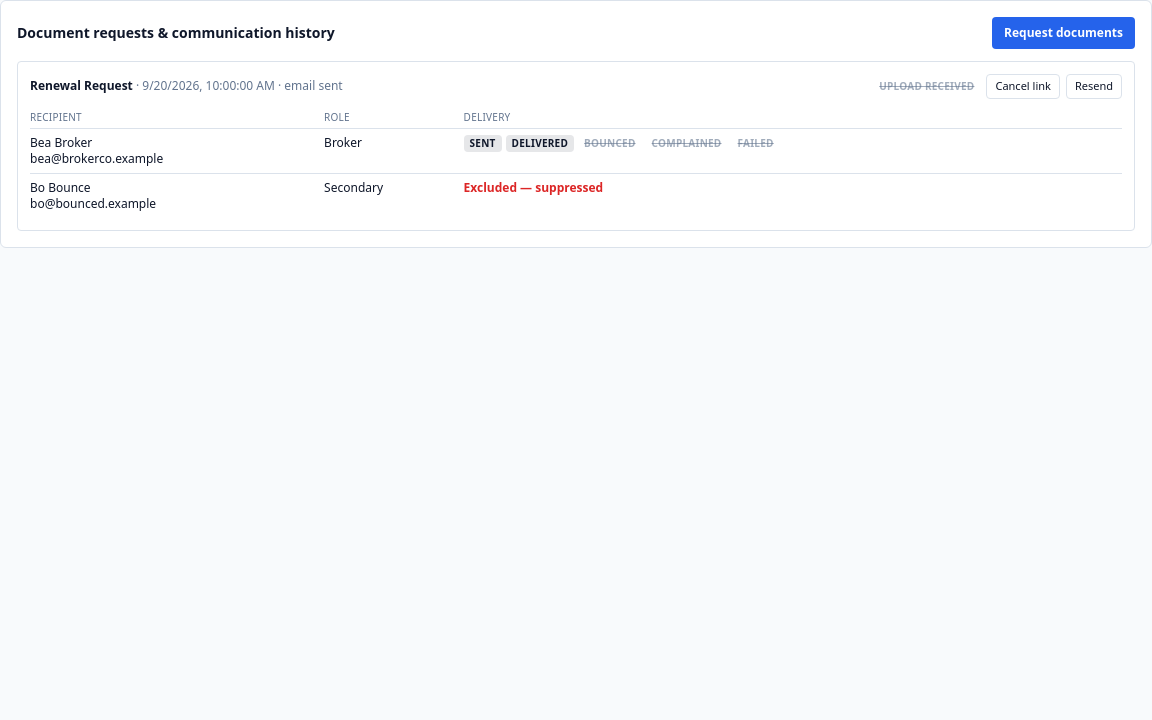
Scenario: Request documents › previews exactly who will receive it, excludes the suppressed contact, and sends only the chosen ids
Click the button "Request documents" at [1064, 33], box [992, 17, 1135, 49]
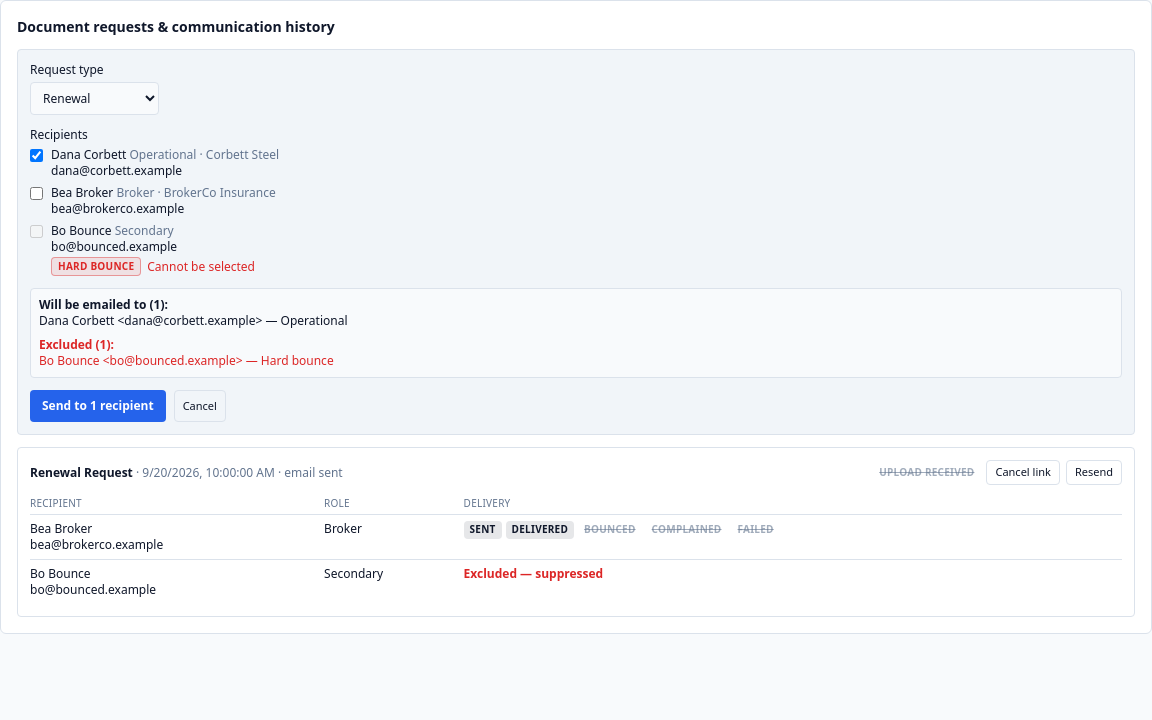
Check: the checkbox labelled "Bo Bounce" is disabled, box [30, 225, 43, 238]
Check: the list with test id "request-excluded-preview" reads "Bo Bounce <bo@bounced.example> — Hard bounce", box [39, 352, 334, 369]
Click the checkbox labelled "Bea Broker Broker · BrokerCo Insurance bea@brokerco.example" at [36, 194], box [30, 187, 43, 200]
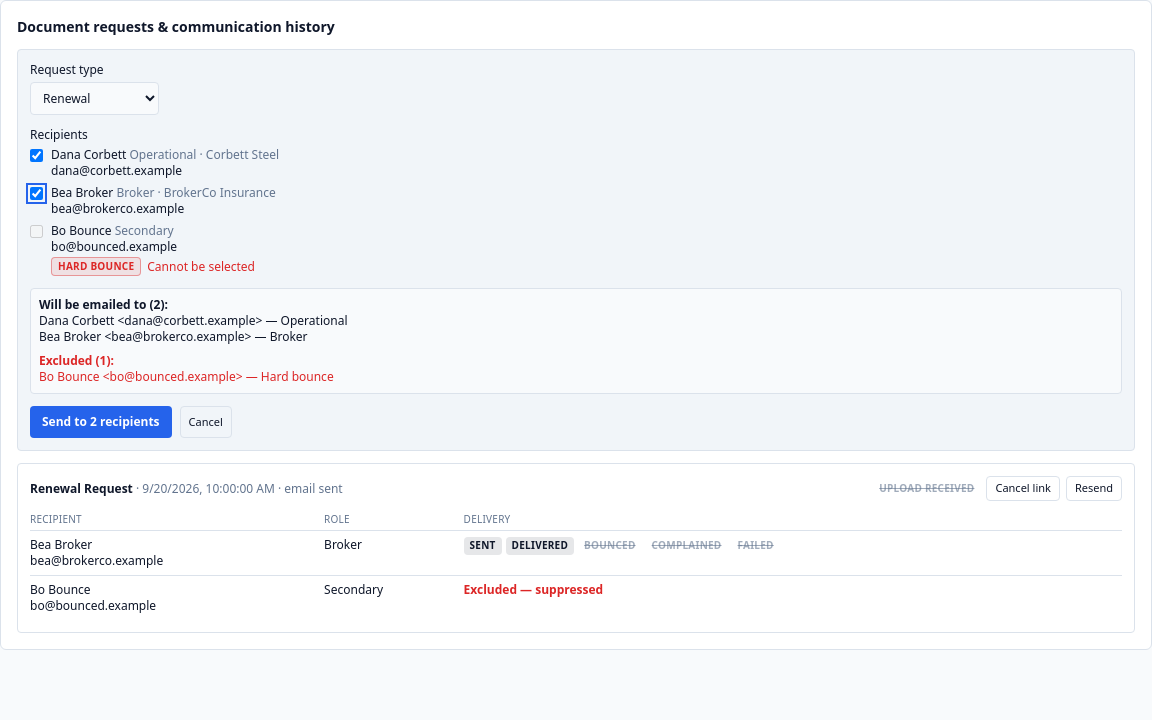
Check: the list with test id "request-recipient-preview" does not show "Bo Bounce", box [39, 312, 348, 345]
Check: the list with test id "request-recipient-preview" shows "Dana Corbett <dana@corbett.example> — Operational", box [39, 312, 348, 345]
Check: the list with test id "request-recipient-preview" shows "Bea Broker <bea@brokerco.example> — Broker", box [39, 312, 348, 345]
Click the button "Send to 2 recipients" at [101, 422], box [30, 406, 172, 438]
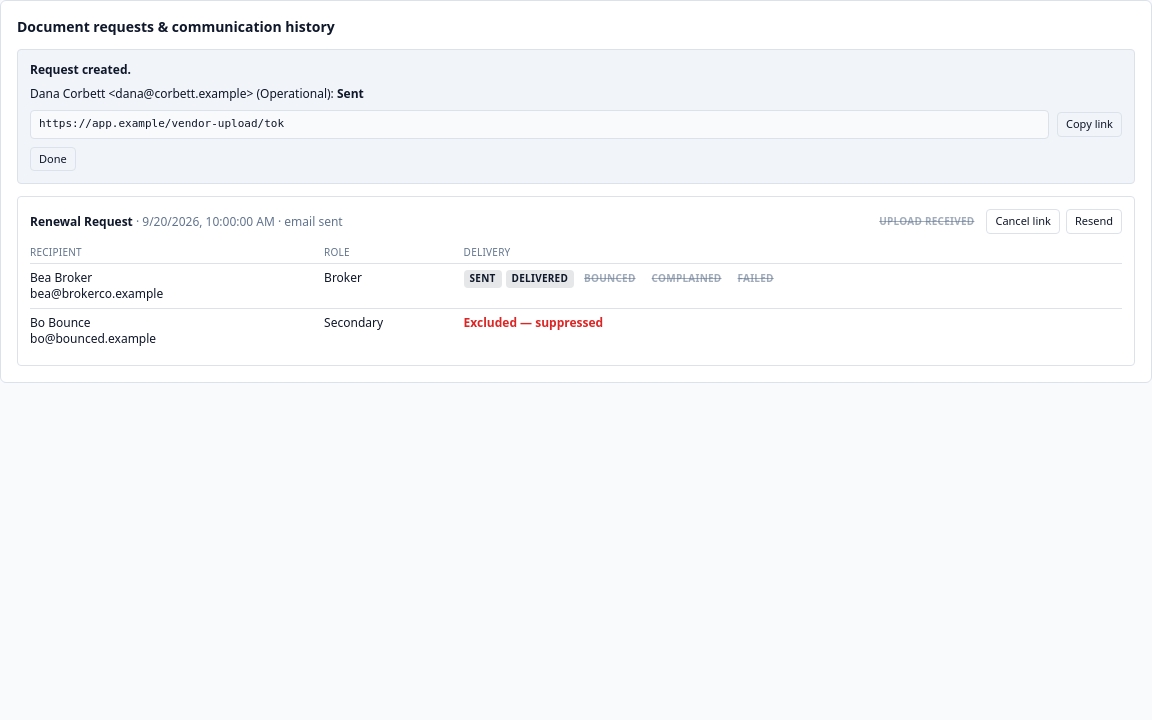
Check: the text "Request created." is shown, box [30, 61, 131, 78]
